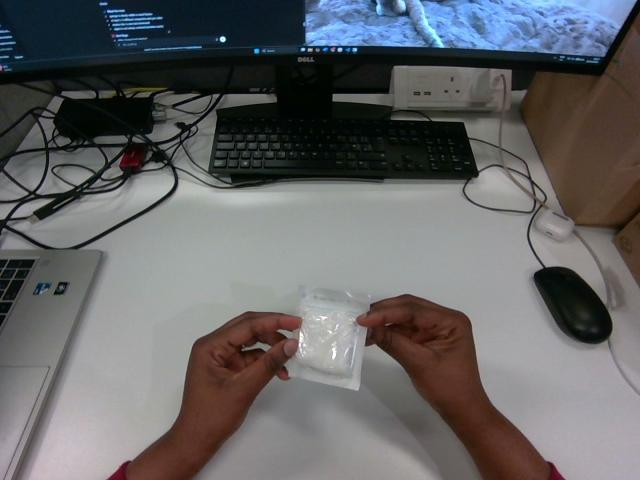gauze: (287, 287, 369, 389)
